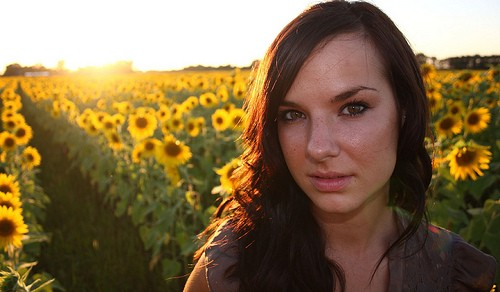flower: (446, 142, 494, 182), (0, 203, 31, 255), (155, 134, 195, 170), (126, 112, 158, 141), (464, 107, 491, 137), (434, 114, 463, 141)
